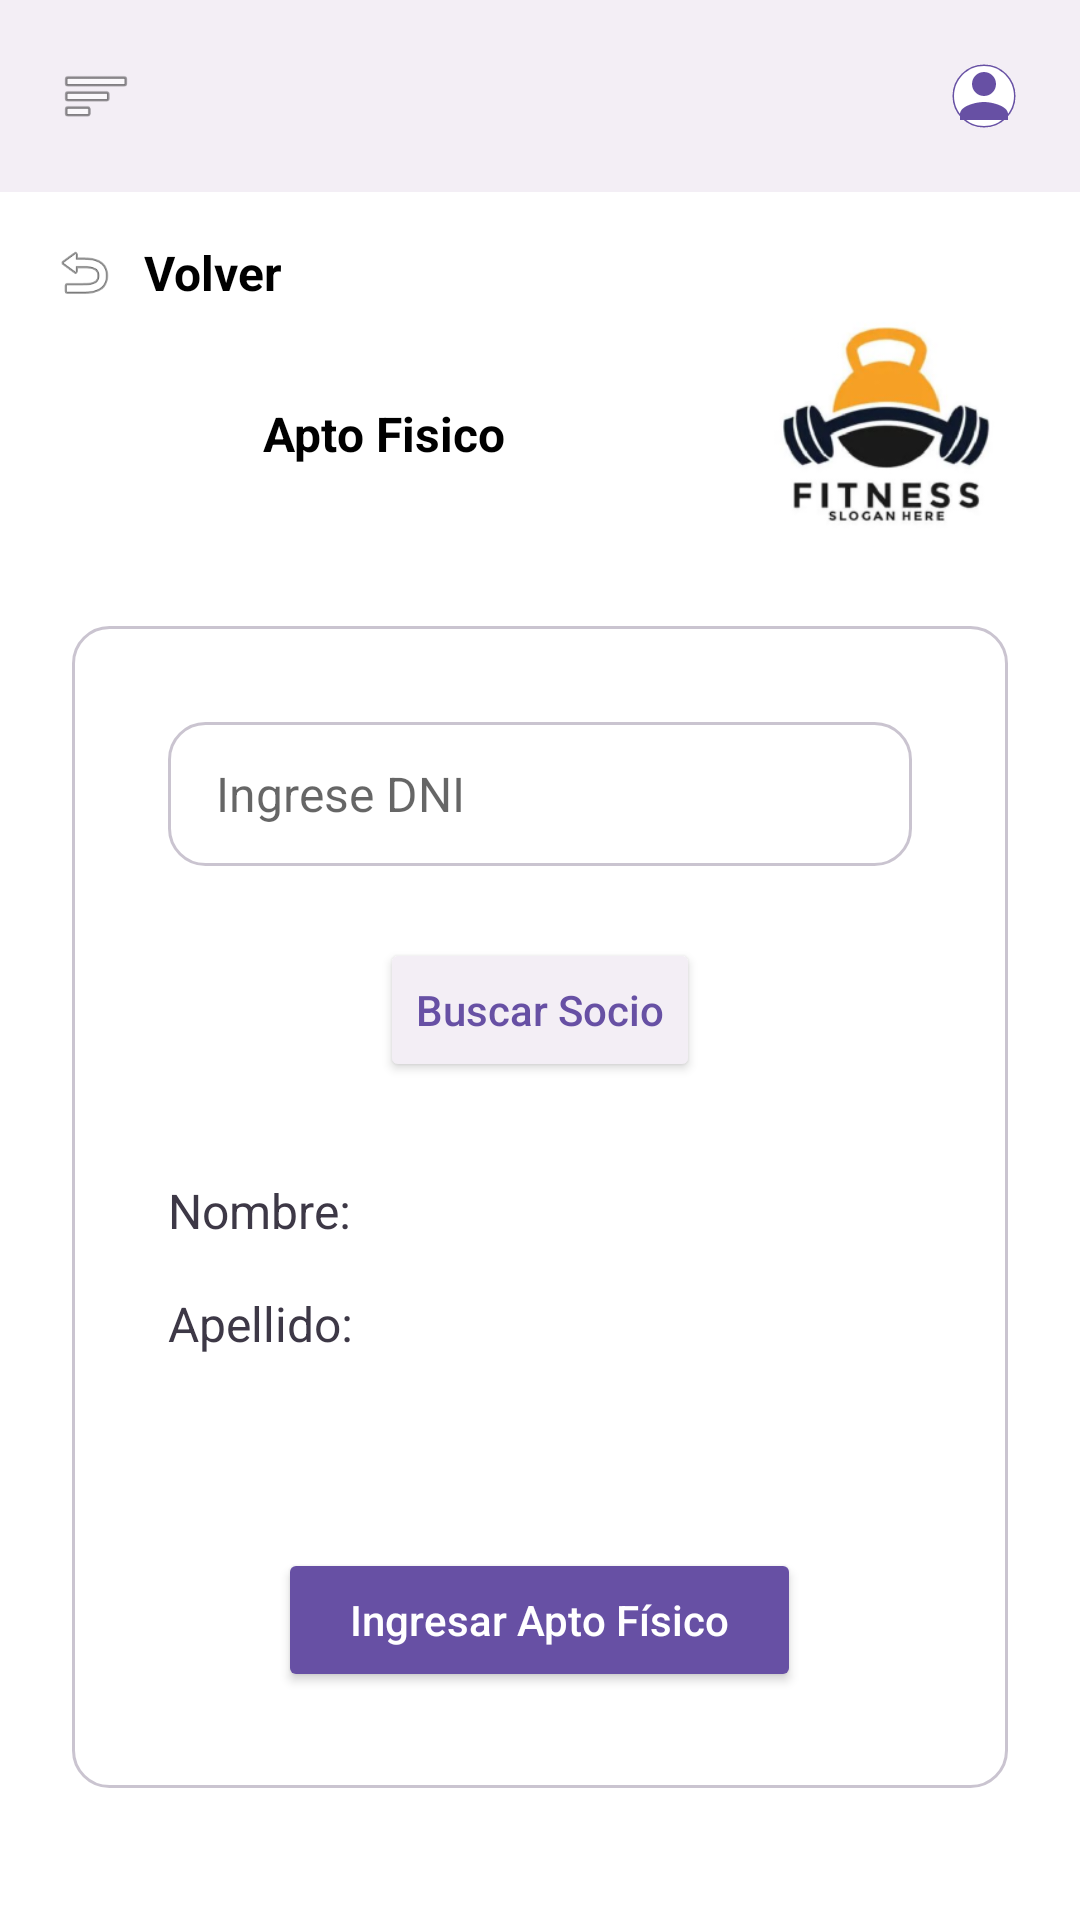

Icon click points for this 1080 x 1920 phone screenshot, format [x,y]:
revert: [84,273]
sort by size: [96,96]
